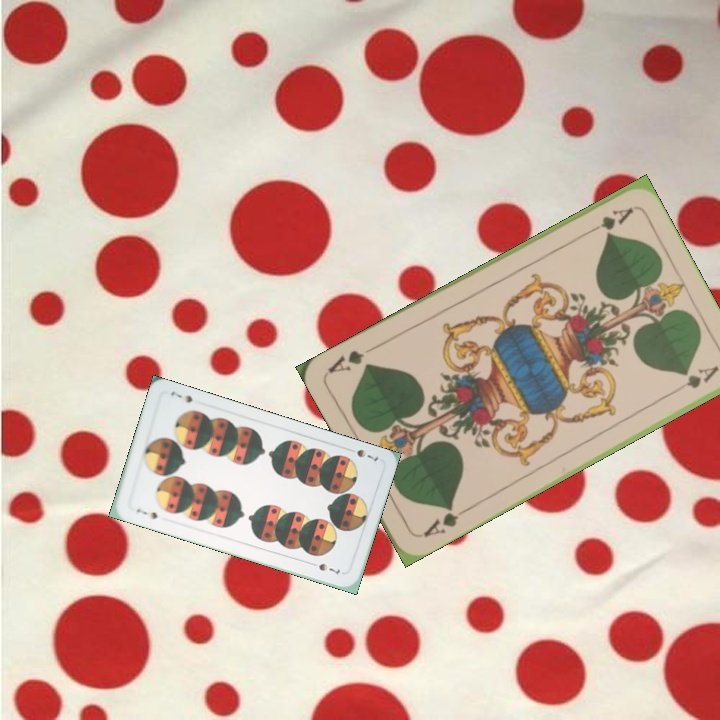GA: (415, 501, 470, 540), (581, 203, 636, 237)
S7: (343, 444, 381, 465), (132, 504, 160, 522)
